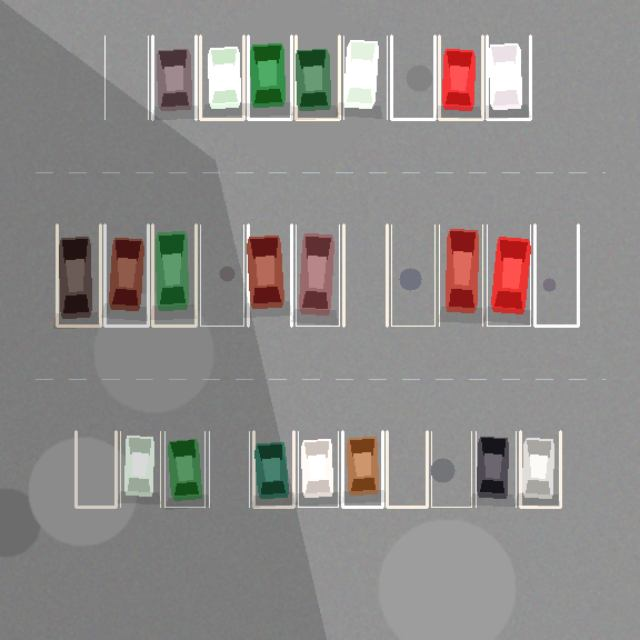space-empty: (343, 224, 387, 326), (534, 224, 578, 326), (200, 224, 243, 326), (391, 224, 434, 326), (104, 36, 148, 119), (391, 36, 434, 119), (76, 431, 116, 507), (209, 431, 249, 507), (387, 431, 427, 507), (431, 431, 471, 507)
space-occupied: (104, 224, 148, 326), (152, 224, 196, 326), (57, 224, 100, 326), (248, 224, 291, 326), (296, 224, 339, 326), (439, 224, 482, 326), (487, 224, 530, 326), (152, 36, 196, 119), (343, 36, 387, 119), (200, 36, 243, 119), (248, 36, 291, 119), (296, 36, 339, 119), (439, 36, 482, 119), (487, 36, 530, 119), (120, 431, 160, 507), (164, 431, 204, 507), (253, 431, 293, 507), (298, 431, 338, 507), (342, 431, 382, 507), (476, 431, 516, 507), (520, 431, 560, 507)
